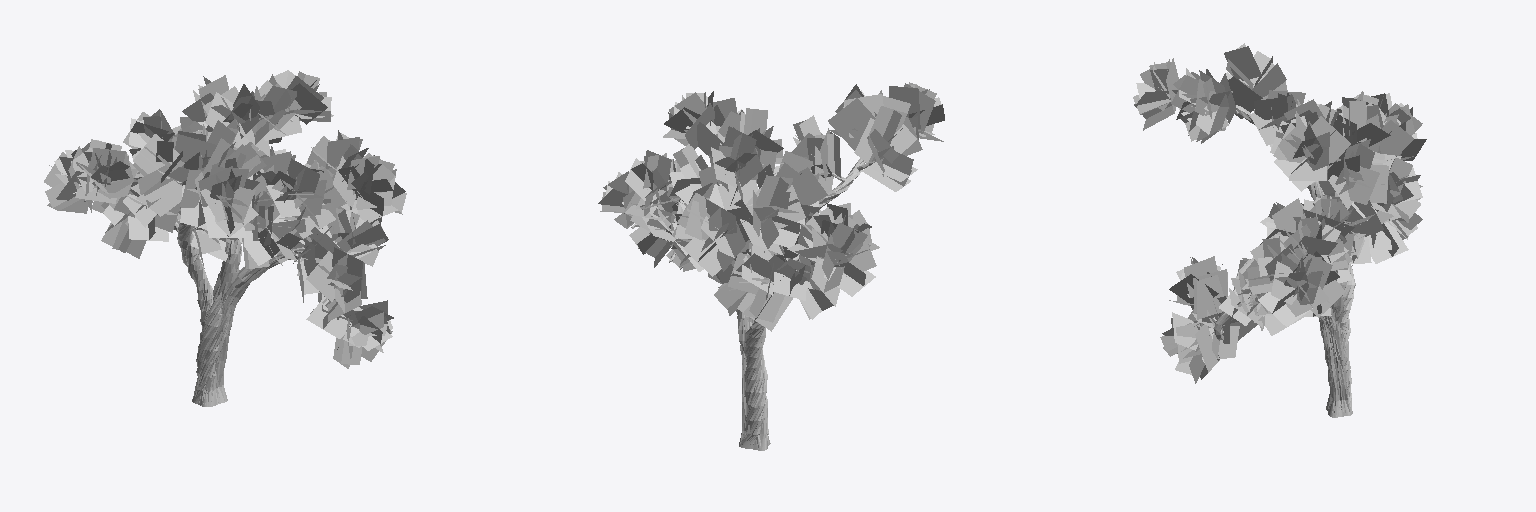
The model's file is Tree_03.obj.
The picture shows the model from 3 angles: view 1: azimuth 30°, elevation 25°; view 2: azimuth 150°, elevation 25°; view 3: azimuth 270°, elevation 25°; orthographic projection.
Visible parts, largest first — view 1: tree; view 2: tree; view 3: tree.
Part boxes in pixels (x1,y1,x2,y2): tree: (44,70,406,406); tree: (598,82,944,450); tree: (1133,43,1426,417).
Size of the model in its own units: 246 by 247 by 203.